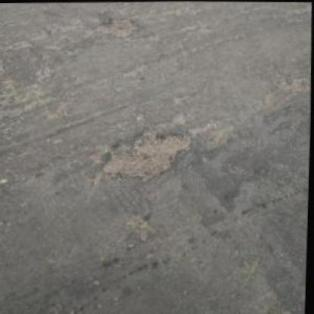Hueco: (100, 126, 197, 184), (95, 16, 144, 38)
